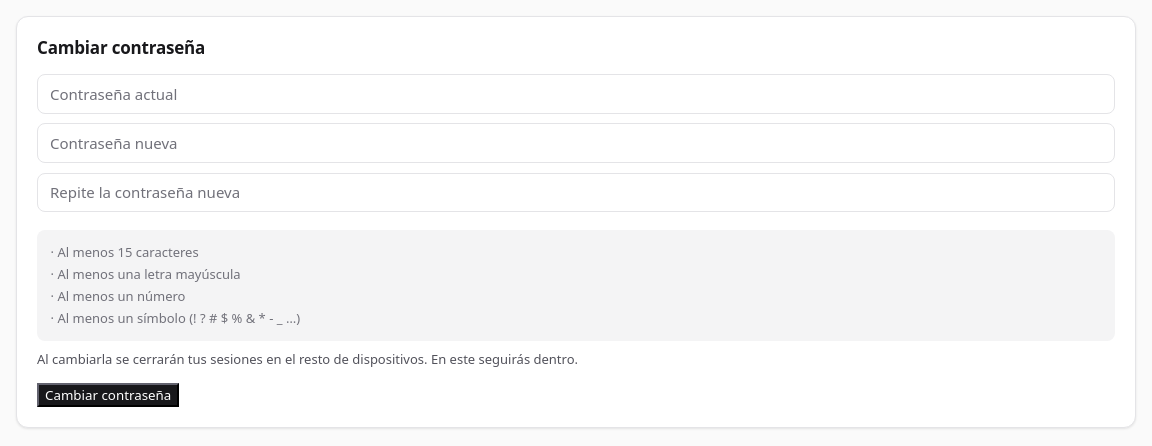
Test case: envío › los campos se deshabilitan mientras se envía
Type "La-de-antes-2026!" into the password field labelled "Contraseña actual" at (576, 94), box [37,74,1115,114]
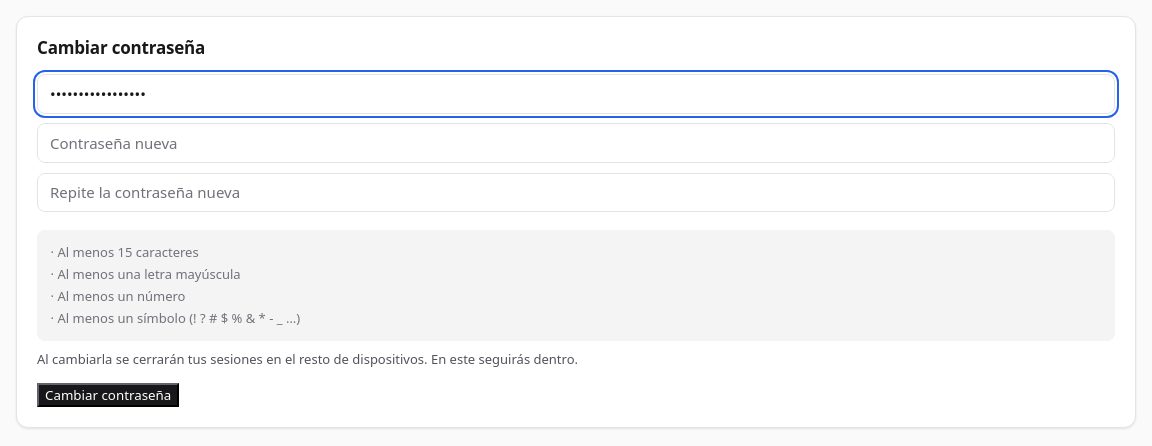
Type "Café con leche y 2 tostadas!" into the password field labelled "Contraseña nueva" at (576, 143), box [37,123,1115,163]
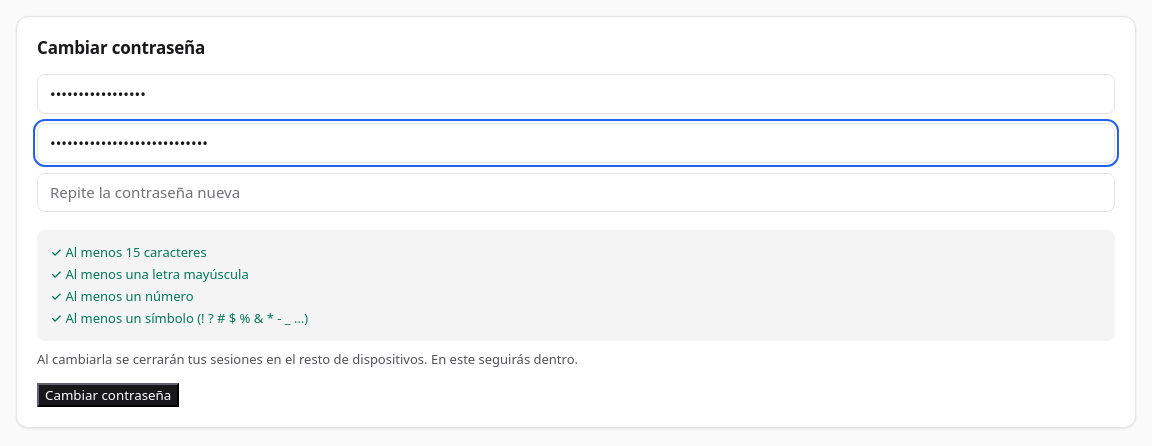
Type "Café con leche y 2 tostadas!" into the password field labelled "Repite la contraseña nueva" at (576, 192), box [37,173,1115,212]
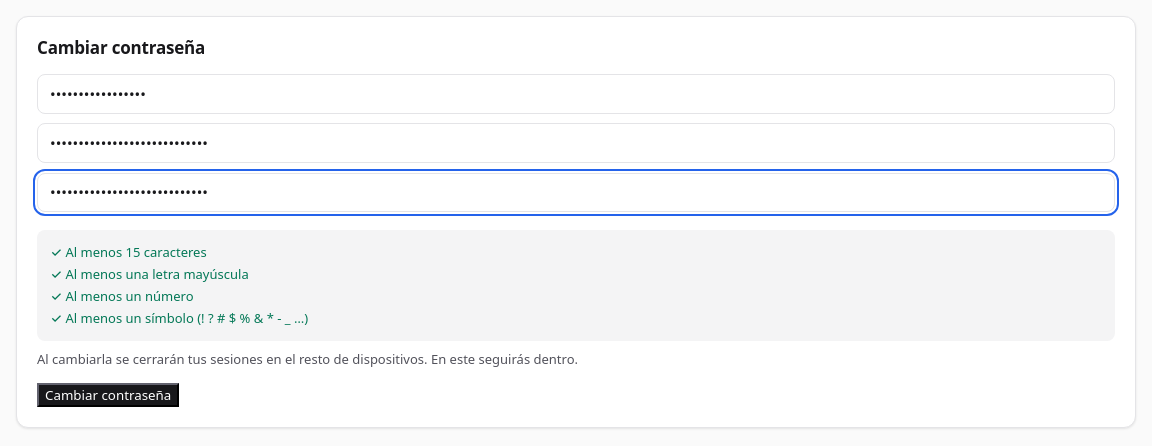
Click the button "Cambiar contraseña" at (108, 395), box [37,383,179,407]
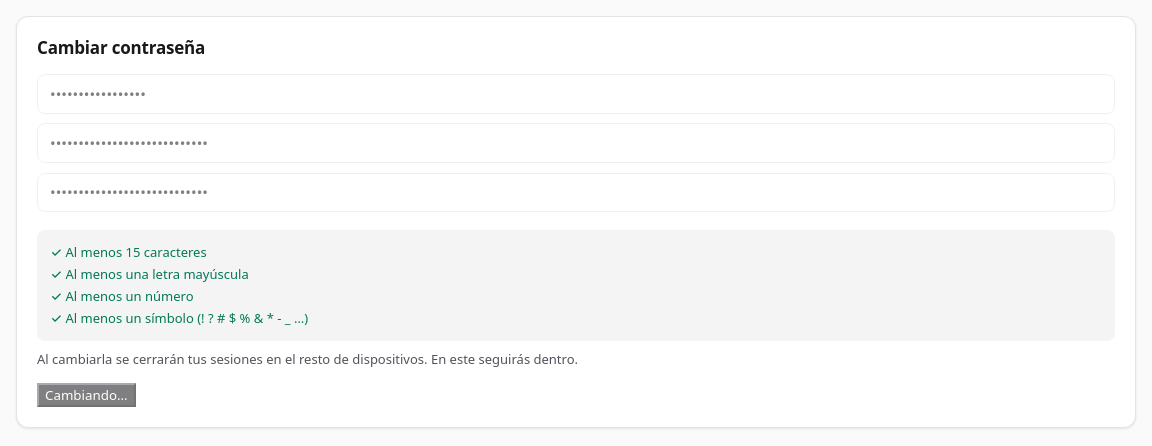
Expected: the password field named "Contraseña actual" is disabled, [37,74,1115,114]
